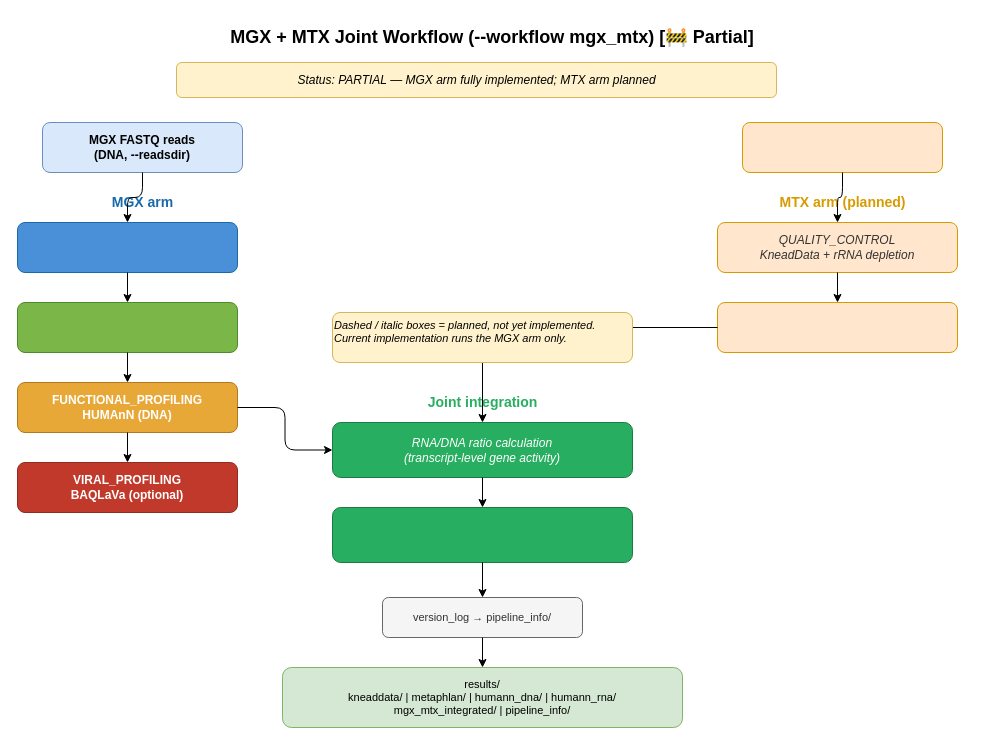
Some shapes in this 985 by 745 pixel diagram are drawn without their labels. The shapes that lost their labels are listed below. From the top down, each one's box as (x1, y1, x2, y2) in pixels, then its label:
(742, 122, 942, 172): MTX FASTQ reads (RNA, --mtxdir [planned])
(16, 222, 238, 272): QUALITY_CONTROL KneadData
(16, 302, 238, 352): TAXONOMIC_PROFILING MetaPhlAn
(716, 302, 958, 352): FUNCTIONAL_PROFILING HUMAnN (RNA transcripts)
(332, 506, 632, 562): Merged community profile (DNA taxonomy × RNA function)
